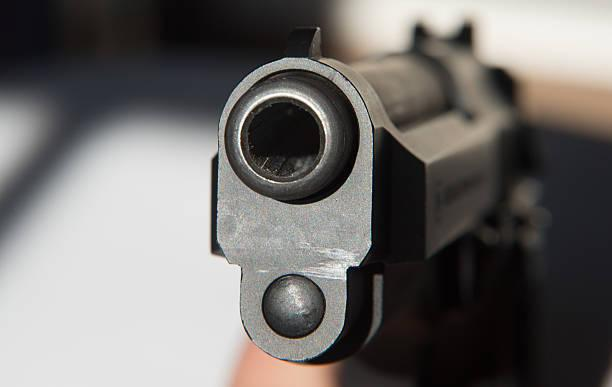weapon: (208, 18, 526, 371)
